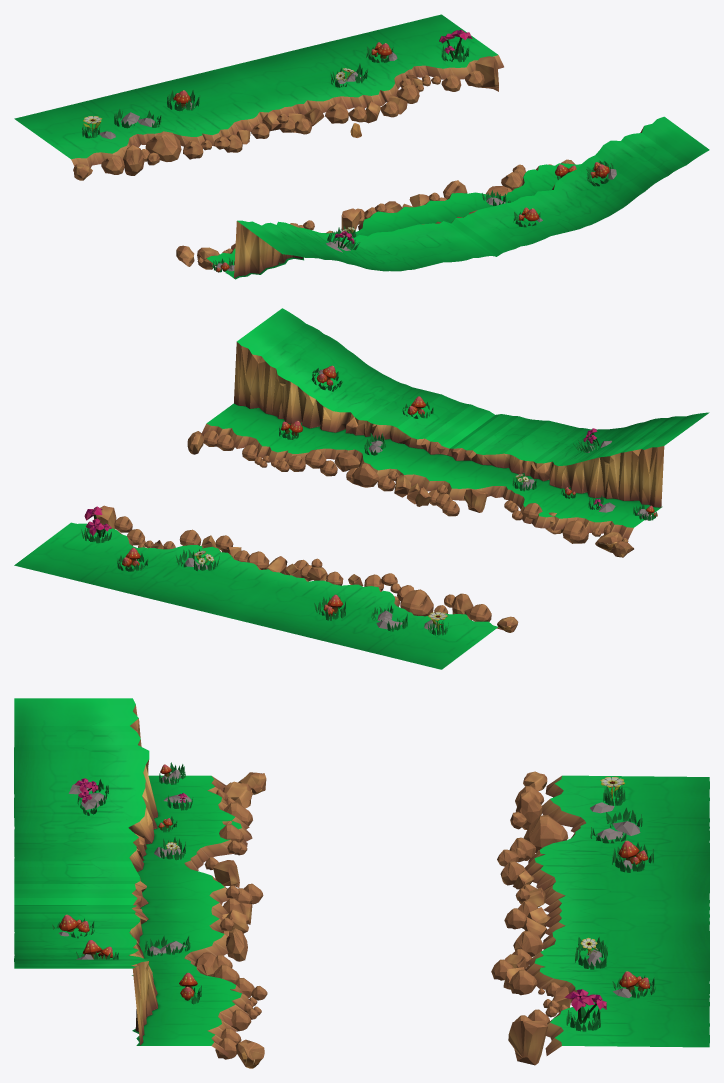
The model's file is Big_guy_slant.fbx.
The picture shows the model from 3 angles, top to bottom: view 1: azimuth 30°, elevation 25°; view 2: azimuth 150°, elevation 25°; view 3: azimuth 270°, elevation 25°; orthographic projection. The views are drawn at different scales.
Visible parts, largest first — view 1: polySurface5665; view 2: polySurface5665; view 3: polySurface5665.
Part boxes in pixels (<box>): polySurface5665: <box>14,14,709,279</box>; polySurface5665: <box>14,308,709,669</box>; polySurface5665: <box>14,698,709,1068</box>.
Bounding box in the file's own units: 4.15 × 0.7658 × 4.35.
